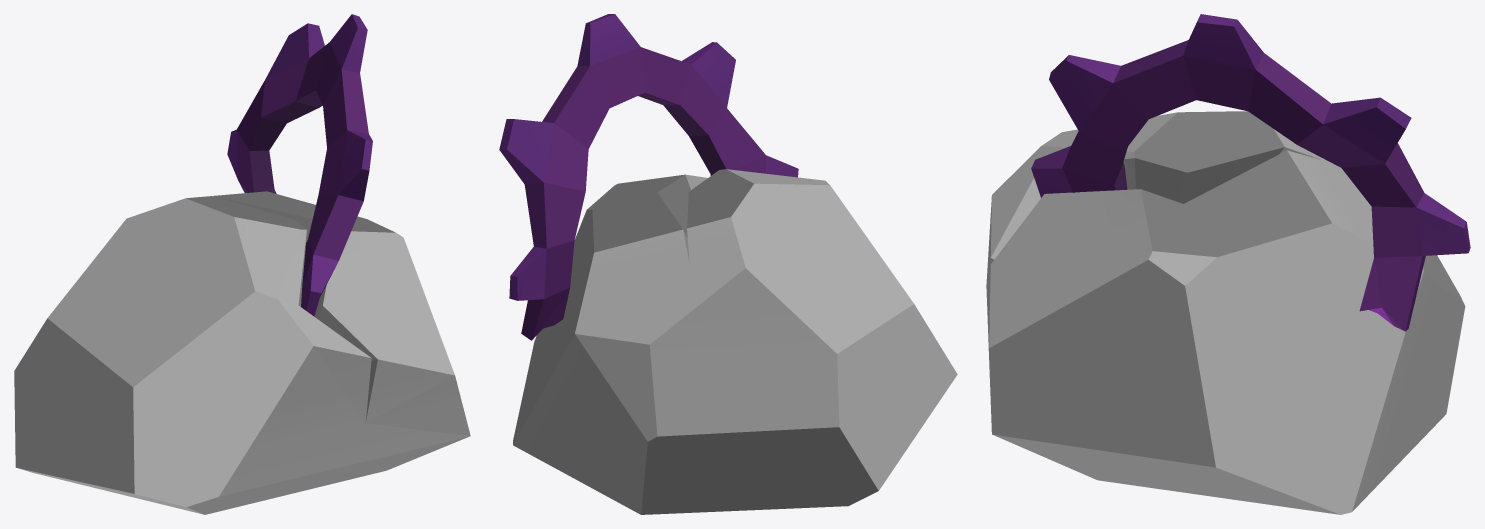
Rendered from obj_stone03_alt.gltf.
3 renders of one model, left to right at view 1: azimuth 30°, elevation 25°; view 2: azimuth 150°, elevation 25°; view 3: azimuth 270°, elevation 25°, orthographic. The views are drawn at different scales.
Visible parts, largest first — view 1: obj_stone03_alt; view 2: obj_stone03_alt; view 3: obj_stone03_alt.
Boxes of the visible parts, x1=… form: obj_stone03_alt: x1=14, y1=14, x2=470, y2=514; obj_stone03_alt: x1=499, y1=14, x2=957, y2=514; obj_stone03_alt: x1=986, y1=14, x2=1470, y2=514.
Size of what is drawn, in the model's own units: 1.04 by 1.05 by 0.972.
1 material, 1 textured.
